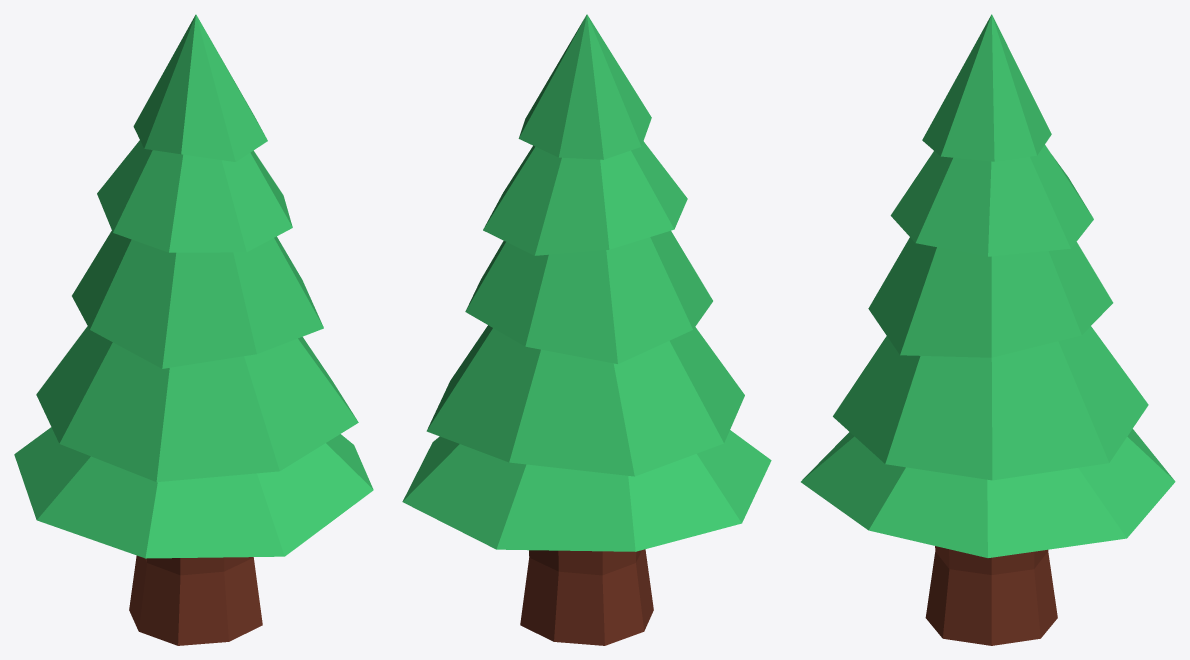
File: maya_export_Tree2_v3.fbx
The picture shows the model from 3 angles, left to right: view 1: azimuth 30°, elevation 25°; view 2: azimuth 150°, elevation 25°; view 3: azimuth 270°, elevation 25°; orthographic projection.
Visible parts, largest first — view 1: Tree2_v3; view 2: Tree2_v3; view 3: Tree2_v3.
Part boxes in pixels (bbox=[...]): Tree2_v3: bbox=[14, 14, 373, 645]; Tree2_v3: bbox=[402, 14, 771, 645]; Tree2_v3: bbox=[801, 14, 1175, 645].
Size of the model in its own units: 3.2 by 5.9 by 3.32.
Materials: 1 (1 with a texture image).
